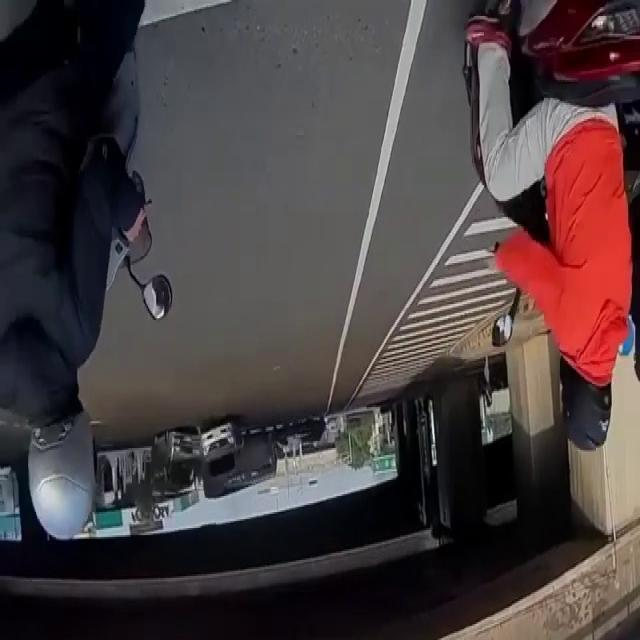moderate: (145, 414, 243, 490)
